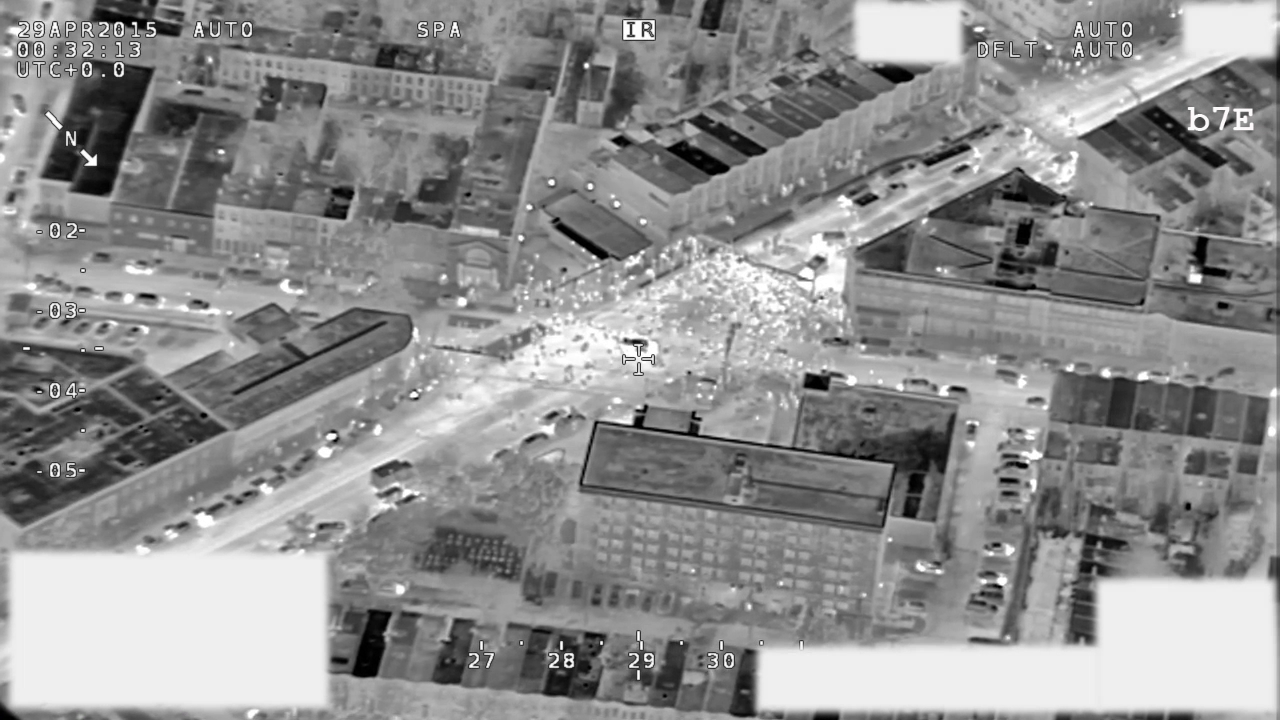vehicle: (921, 142, 977, 175), (368, 460, 413, 490), (996, 438, 1046, 462), (191, 502, 226, 531), (538, 406, 580, 429), (994, 453, 1044, 472), (899, 374, 940, 397), (287, 451, 319, 480), (619, 335, 661, 357), (838, 183, 873, 208), (799, 255, 831, 282), (992, 462, 1040, 480), (28, 275, 70, 295), (818, 366, 859, 386), (982, 540, 1020, 560), (518, 431, 551, 454), (230, 488, 261, 512), (1005, 423, 1042, 443), (912, 558, 949, 578), (89, 319, 119, 343), (809, 230, 849, 248), (548, 416, 585, 435), (68, 315, 94, 342), (223, 265, 264, 282), (121, 322, 151, 345), (164, 518, 191, 543), (279, 276, 315, 294), (999, 475, 1037, 492), (994, 369, 1029, 387), (964, 415, 981, 452), (53, 312, 76, 339), (853, 192, 881, 214), (820, 335, 857, 351), (2, 188, 22, 217), (1063, 359, 1097, 376), (376, 580, 408, 598), (10, 90, 31, 117), (261, 474, 288, 495), (31, 312, 55, 335), (588, 581, 607, 610), (137, 534, 162, 556), (976, 569, 1010, 585), (895, 599, 929, 615), (967, 599, 1003, 614), (1138, 367, 1168, 385), (943, 383, 971, 402), (905, 351, 949, 363), (543, 569, 559, 602), (996, 489, 1036, 502), (339, 579, 373, 594), (969, 587, 1008, 600), (623, 586, 639, 617), (1098, 363, 1131, 378), (567, 577, 586, 603), (1026, 395, 1055, 412), (950, 163, 973, 184), (317, 520, 347, 536), (81, 253, 113, 267), (606, 585, 622, 612), (639, 591, 655, 618), (124, 259, 159, 271), (656, 591, 672, 617), (185, 298, 211, 313), (131, 295, 161, 307), (983, 355, 1019, 365), (1176, 372, 1206, 384), (187, 274, 219, 285), (103, 290, 129, 303), (11, 169, 27, 190), (73, 287, 101, 298), (886, 182, 908, 196)
